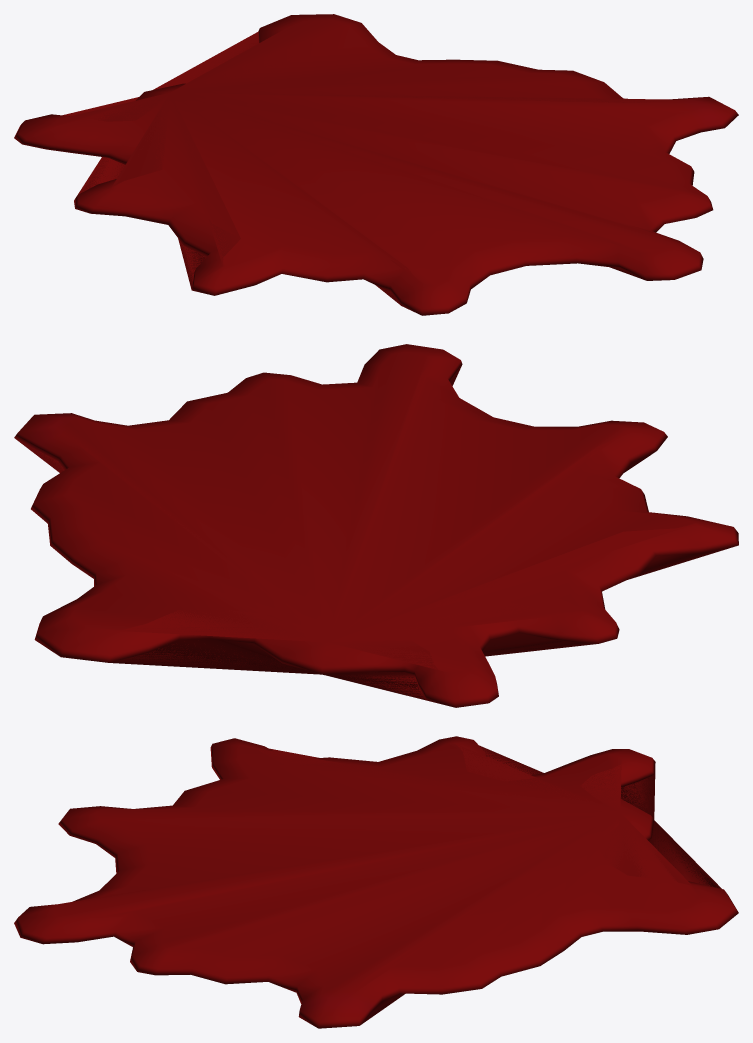
Rendered from CondimentKetchup.fbx.
The picture shows the model from 3 angles, top to bottom: view 1: azimuth 30°, elevation 25°; view 2: azimuth 150°, elevation 25°; view 3: azimuth 270°, elevation 25°; orthographic projection. The views are drawn at different scales.
Parts seen in each view (by area): view 1: Condiment Ketchup; view 2: Condiment Ketchup; view 3: Condiment Ketchup.
Boxes of the visible parts, x1,y1,x2,y2 form: Condiment Ketchup: [14, 14, 738, 315]; Condiment Ketchup: [14, 344, 738, 707]; Condiment Ketchup: [14, 736, 738, 1028].
Bounding box in the file's own units: 174 × 3.75 × 185.
